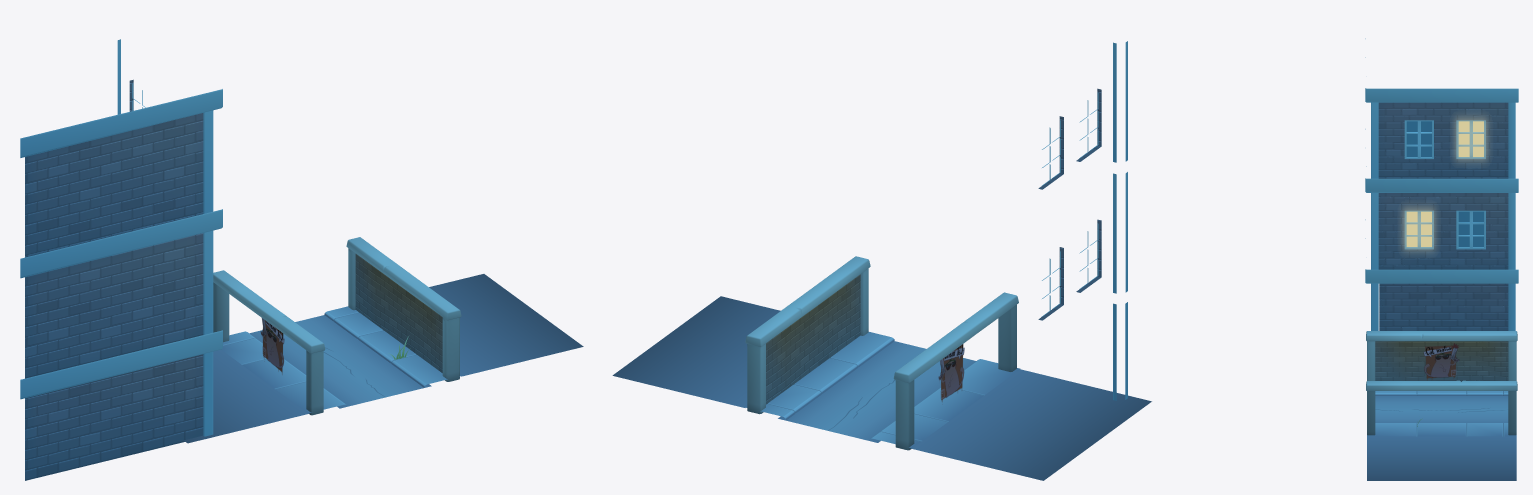
Rendered from UrbanBrickWalls03.prefab.glb.
3 renders of one model, left to right at view 1: azimuth 30°, elevation 25°; view 2: azimuth 150°, elevation 25°; view 3: azimuth 270°, elevation 25°, orthographic. The views are drawn at different scales.
Parts seen in each view (by area): view 1: BackgroundBuilding02, UrbanBrickWalls03, BrickWall, BrickWall (1), Graffiti03; view 2: UrbanBrickWalls03, BrickWall, BrickWall (1), BackgroundBuilding02, Graffiti03; view 3: BackgroundBuilding02, UrbanBrickWalls03, BrickWall (1), BrickWall, LightGlowPlane, LightGlowPlane (1), Graffiti03.
Part boxes in pixels (x1,y1,x2,y2): BackgroundBuilding02: [20, 39, 222, 480]; UrbanBrickWalls03: [184, 274, 583, 443]; BrickWall: [346, 237, 461, 381]; BrickWall (1): [213, 270, 325, 415]; Graffiti03: [260, 318, 284, 374]; UrbanBrickWalls03: [612, 296, 1151, 480]; BrickWall: [745, 256, 870, 414]; BrickWall (1): [893, 292, 1018, 450]; BackgroundBuilding02: [1038, 41, 1127, 400]; Graffiti03: [938, 344, 964, 401]; BackgroundBuilding02: [1365, 38, 1518, 330]; UrbanBrickWalls03: [1367, 391, 1516, 480]; BrickWall (1): [1366, 331, 1517, 381]; BrickWall: [1366, 380, 1517, 435]; LightGlowPlane: [1401, 206, 1436, 252]; LightGlowPlane (1): [1454, 116, 1488, 162]; Graffiti03: [1423, 343, 1459, 380].
Bounding box in the file's own units: 29.39 × 17.42 × 9.21.
Materials: 4 (3 with a texture image).
